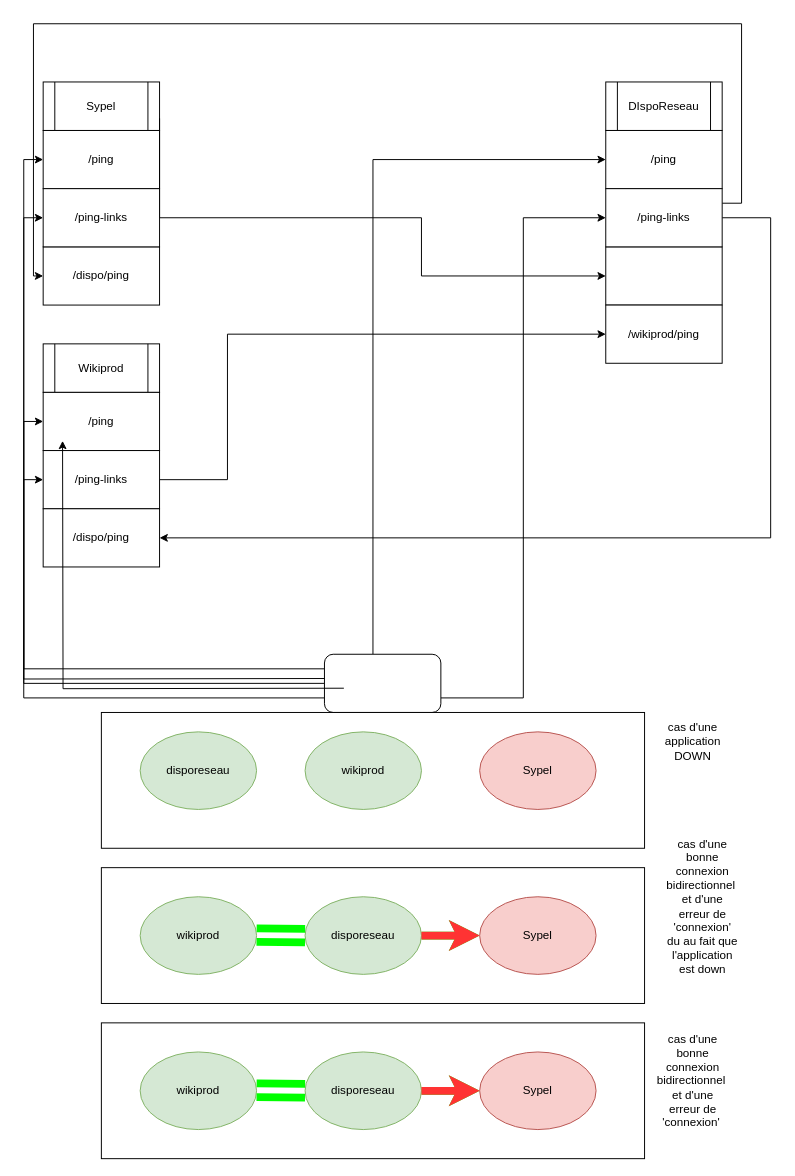
The diagram is 795 pixels wide and 1176 high, and some of its shapes have lost their labels. Here are the shapes that lost their labels. From the top down, the centre of each, then its label:
At pixel 663 275: "/sypel/ping".
At pixel 382 682: "Monitoring".
